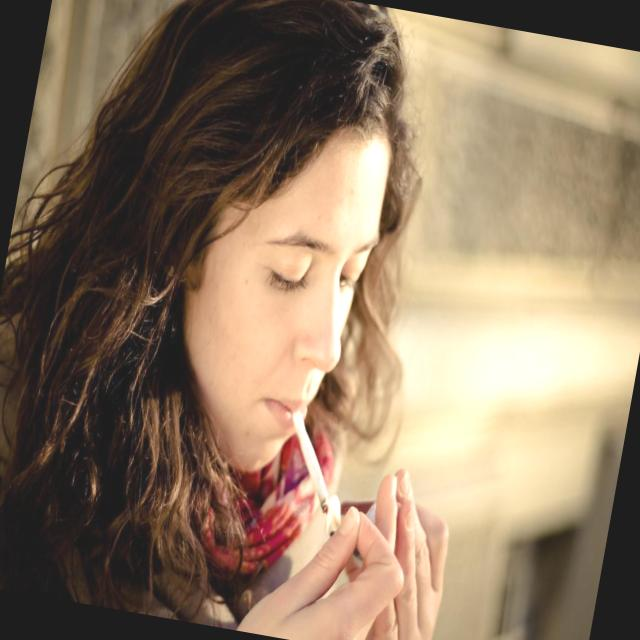smoke: (262, 382, 361, 536)
